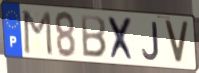8: (53, 10, 78, 60)
B: (80, 14, 108, 60)
J: (141, 20, 161, 61)
M: (22, 9, 54, 57)
V: (163, 19, 191, 67)
X: (106, 15, 137, 63)
